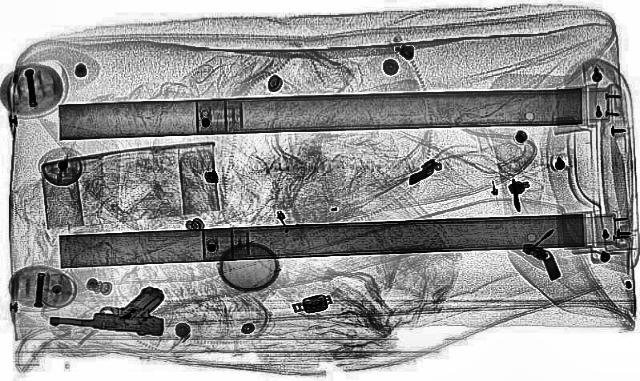Gun: (46, 277, 176, 335)
